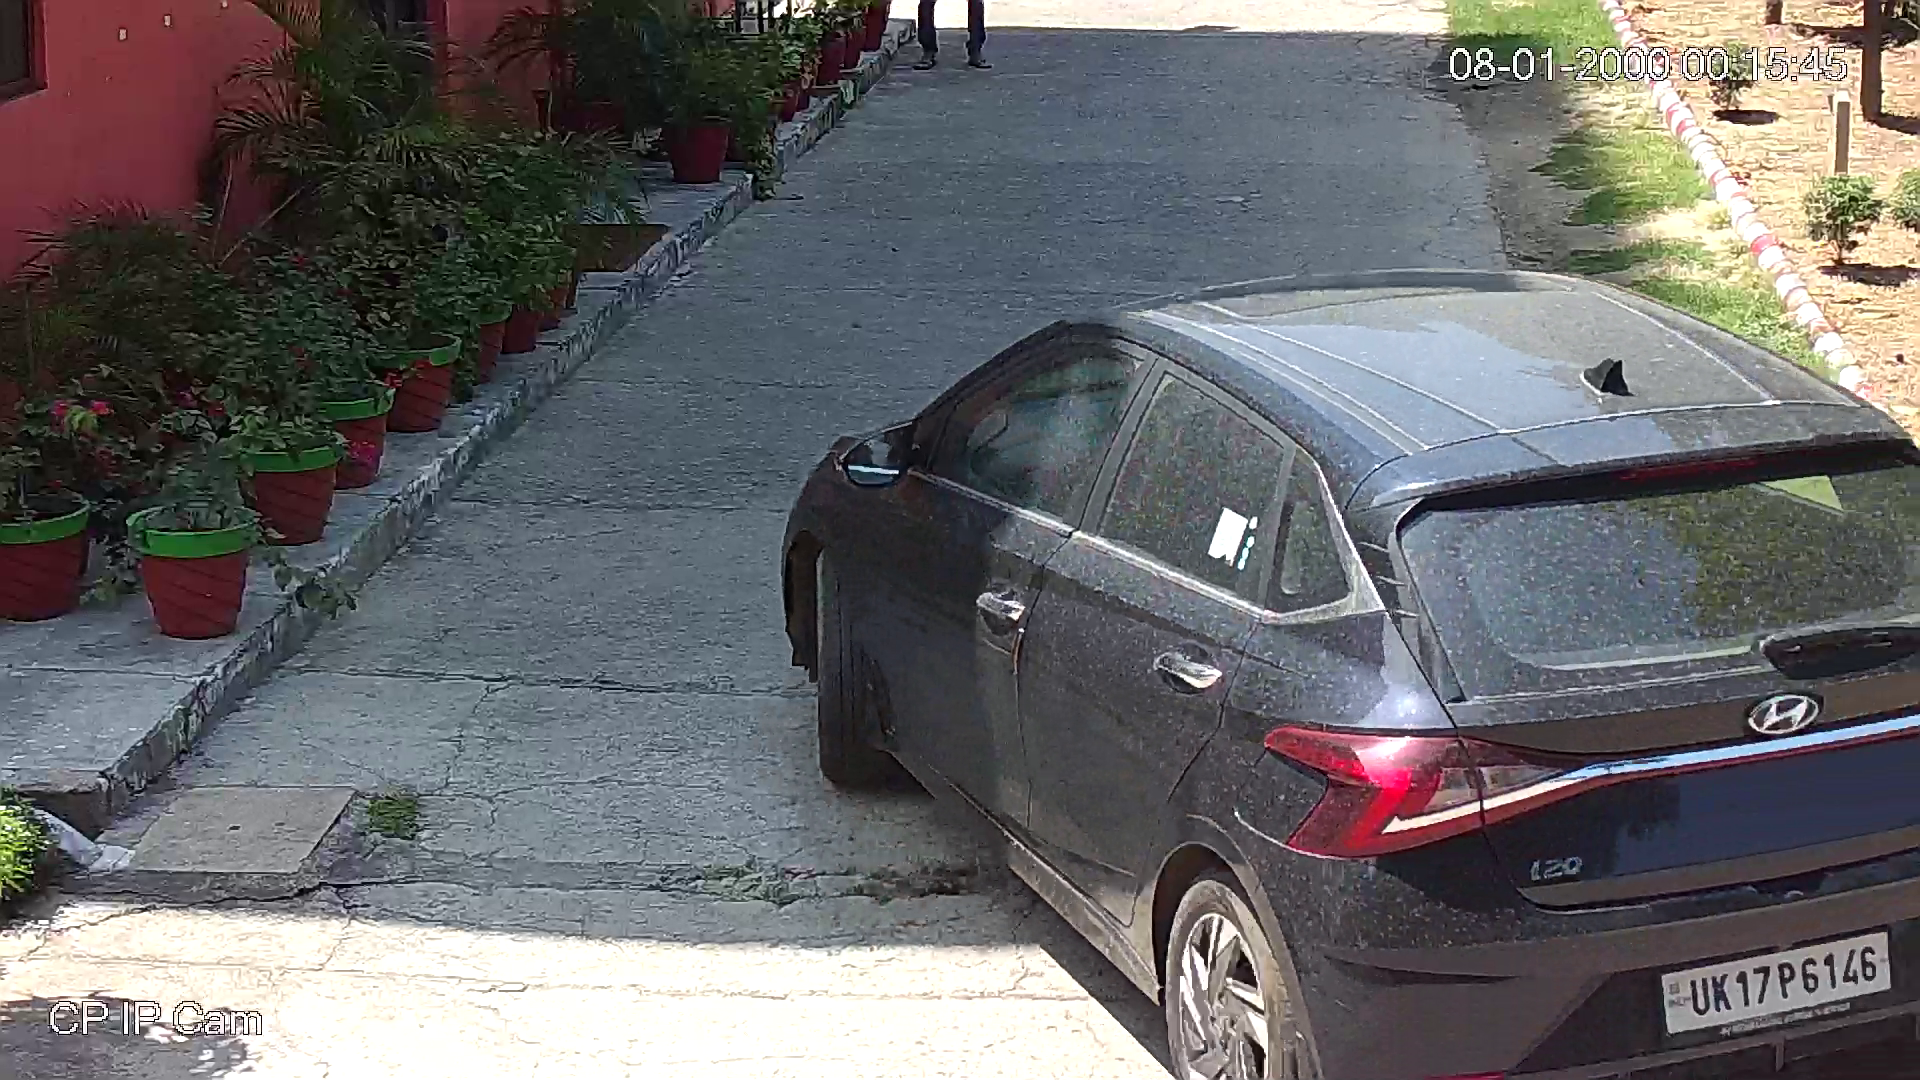plate: (1652, 913, 1904, 1054)
